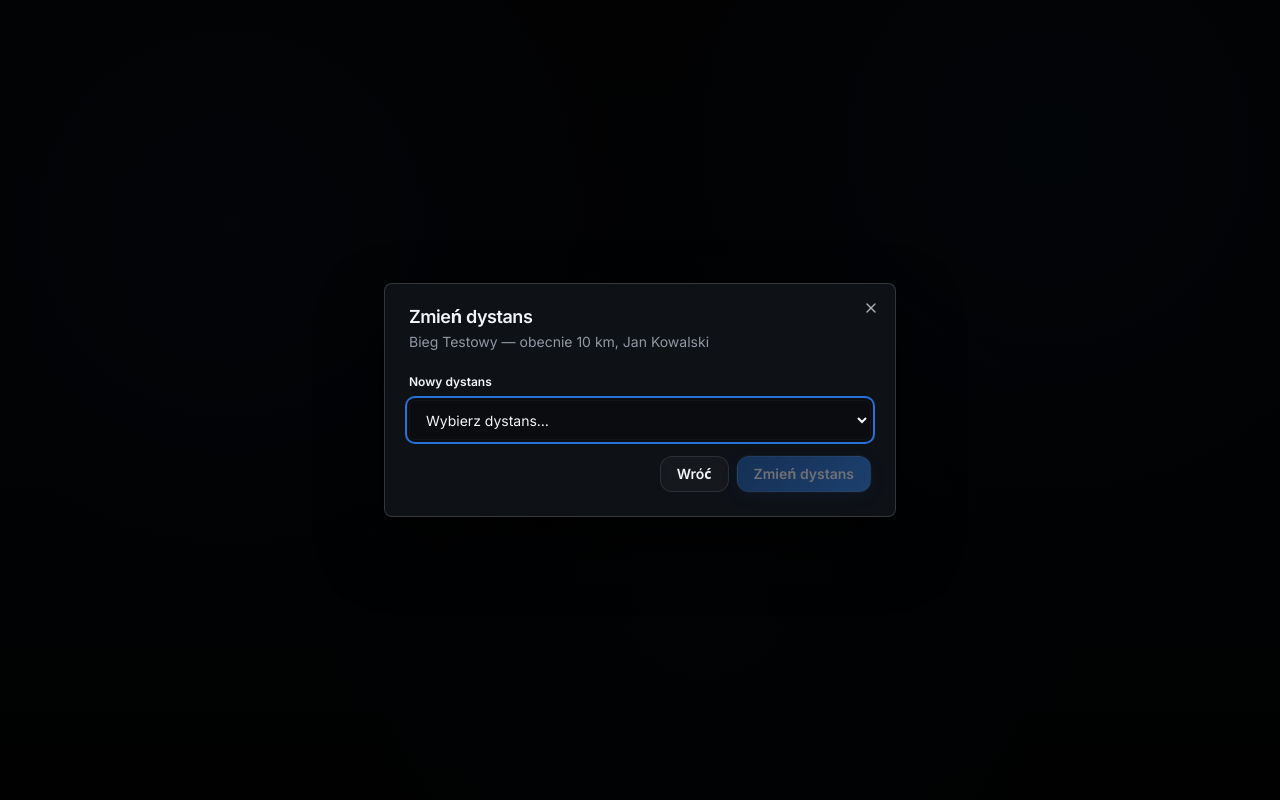
ChangeDistanceDialog › explains and blocks an owner who would owe an extra
Step 1. Select "Półmaraton — 120,00 zł" in the dropdown labelled "Nowy dystans" → (640, 420), box [409,400,871,440]
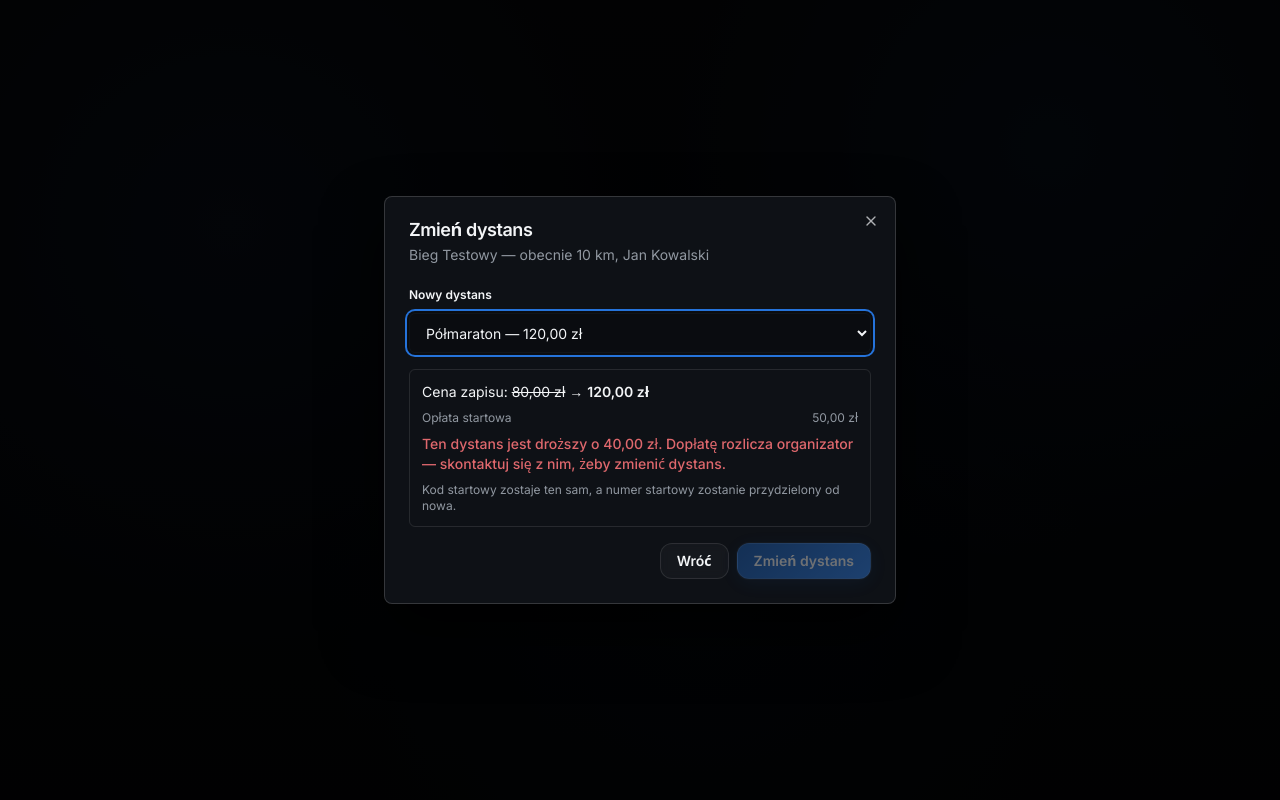
Expected: the button "Zmień dystans" is disabled, [736,543,871,579]
Expected: the text "Dopłatę rozlicza organizator" is shown, [422,435,853,472]
